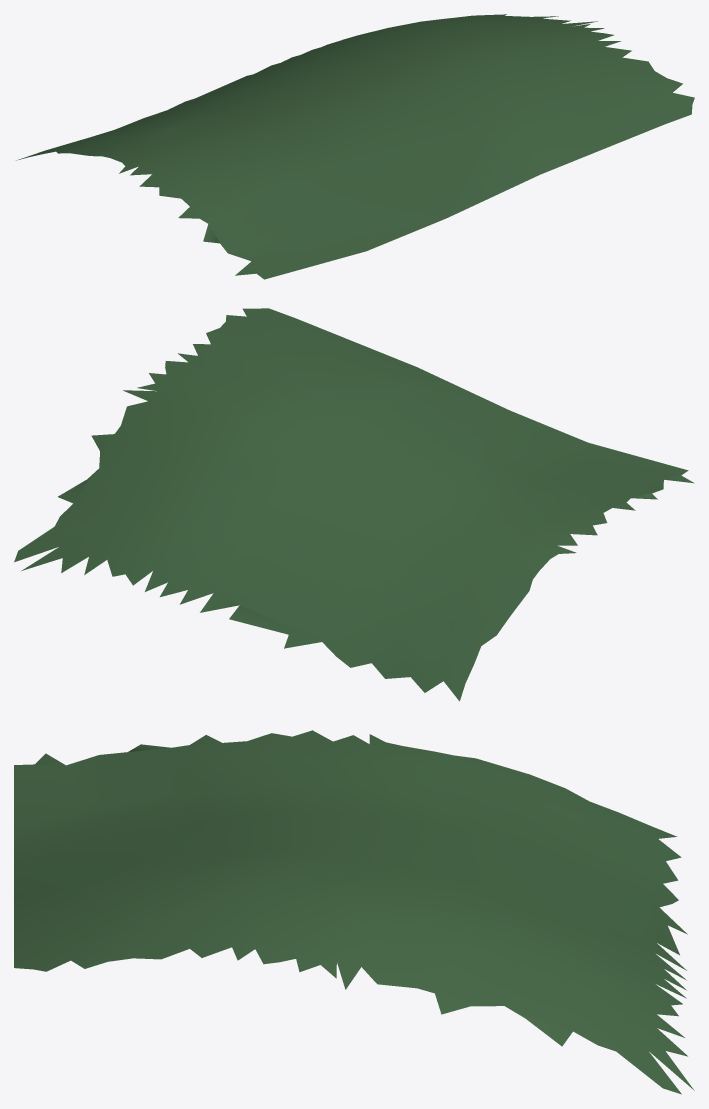
Rendered from payo_land_xm3_y10_lod2.glb.
The picture shows the model from 3 angles, top to bottom: view 1: azimuth 30°, elevation 25°; view 2: azimuth 150°, elevation 25°; view 3: azimuth 270°, elevation 25°; orthographic projection. The views are drawn at different scales.
Parts seen in each view (by area): view 1: payo_land_xm3_y10; view 2: payo_land_xm3_y10; view 3: payo_land_xm3_y10.
Boxes of the visible parts, x1,y1,x2,y2 form: payo_land_xm3_y10: [16, 14, 694, 279]; payo_land_xm3_y10: [14, 308, 694, 701]; payo_land_xm3_y10: [14, 730, 694, 1094].
Bounding box in the file's own units: 276 × 71.63 × 250.
